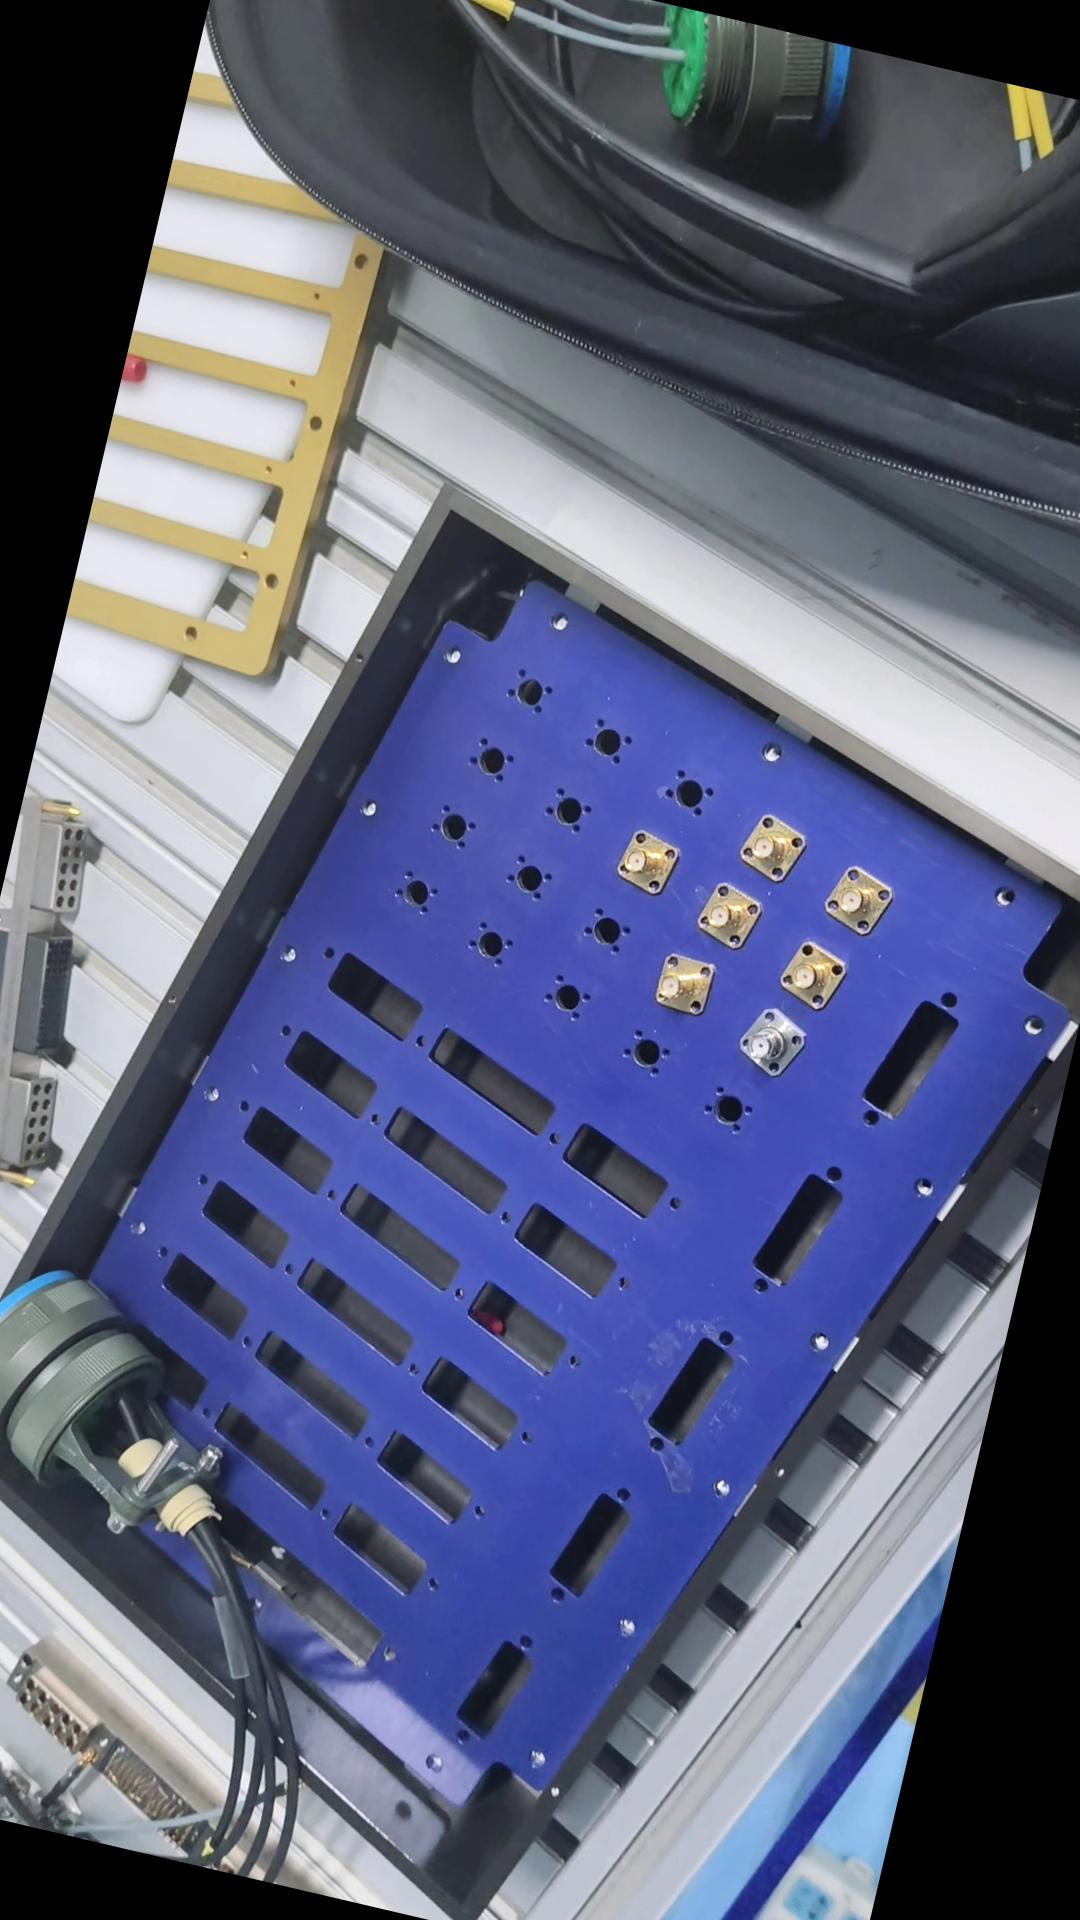SMA: (258, 823, 344, 909), (175, 881, 258, 967), (229, 955, 309, 1036), (360, 960, 443, 1036), (307, 895, 392, 971), (392, 833, 469, 913), (277, 1023, 353, 1096)
